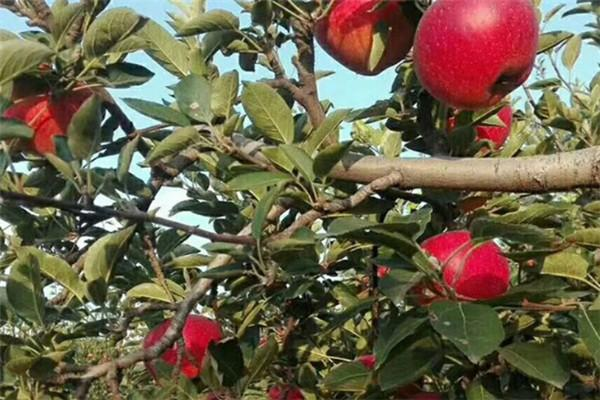apple: (411, 1, 538, 111)
